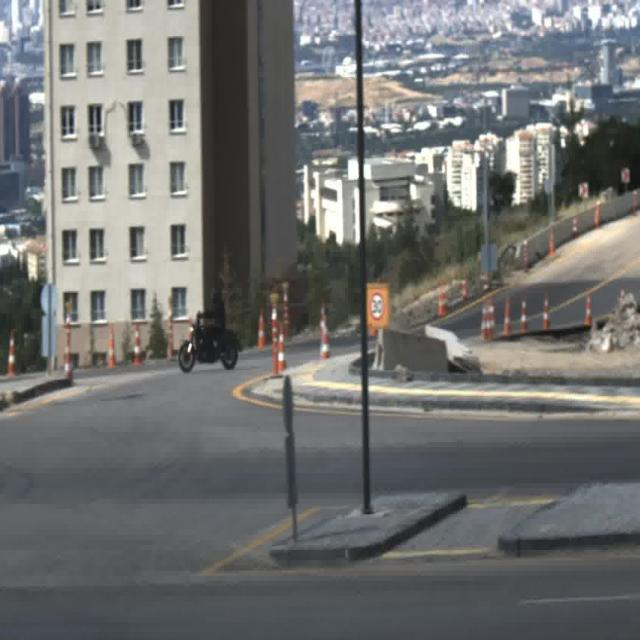Motorcycle: (178, 287, 240, 373)
